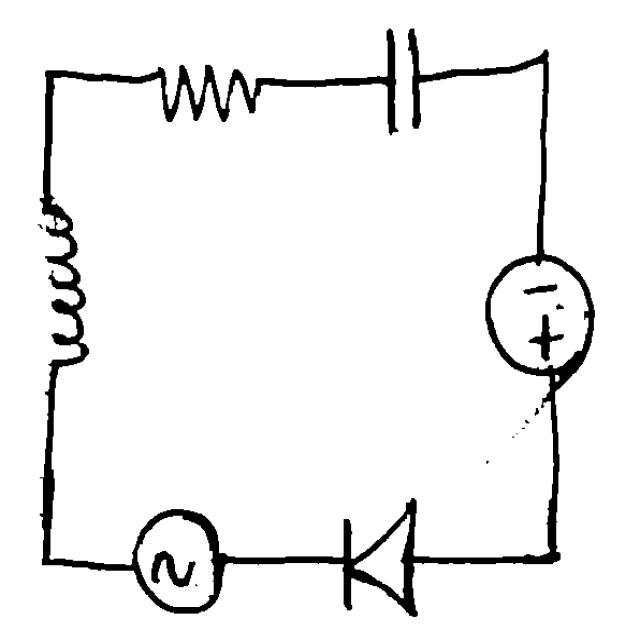ac: (118, 496, 239, 623)
capacitor: (363, 20, 450, 149)
dc: (468, 246, 604, 388)
diode: (322, 488, 444, 627)
inductor: (21, 182, 107, 386)
resistor: (136, 55, 282, 133)
